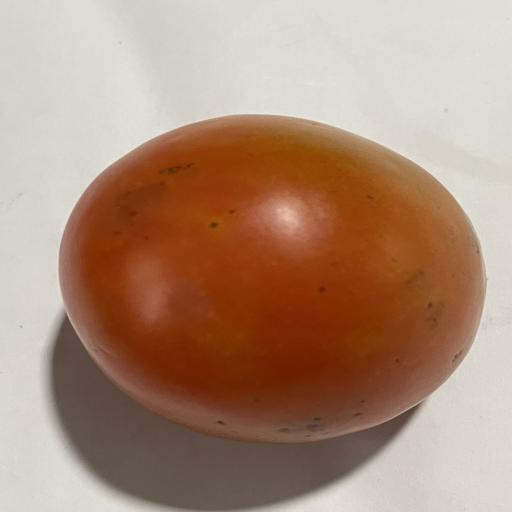ripe: (59, 115, 486, 443)
